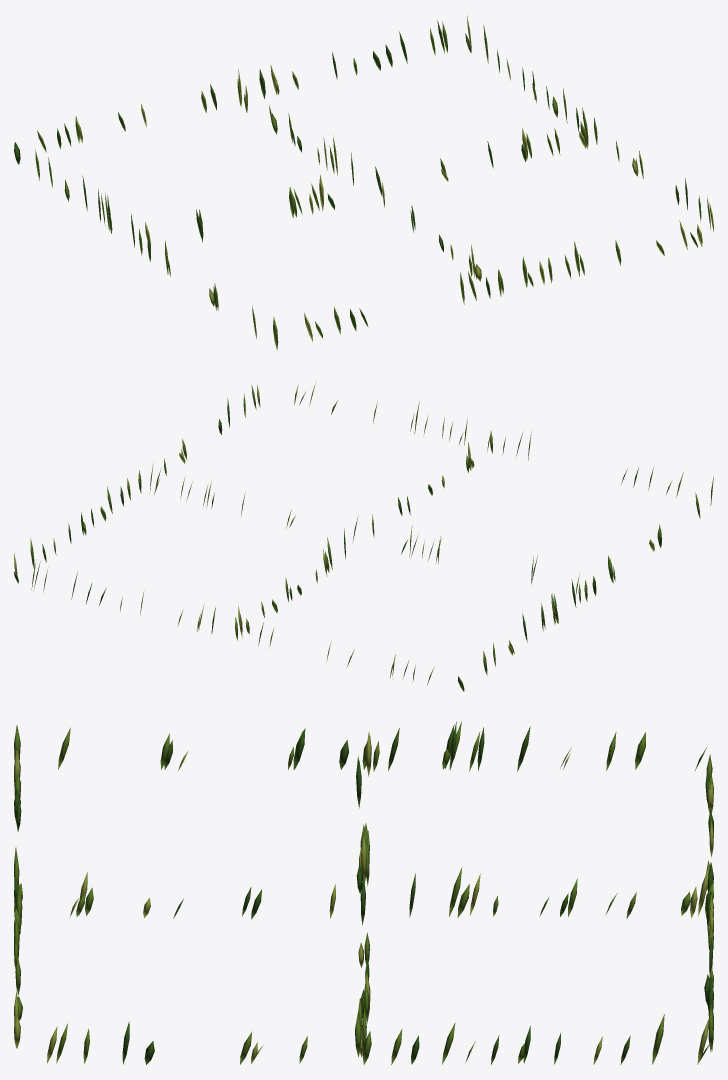
The model's file is MV_Grass_Paving_Seams_1x1m.fbx.
3 renders of one model, top to bottom at view 1: azimuth 30°, elevation 25°; view 2: azimuth 150°, elevation 25°; view 3: azimuth 270°, elevation 25°, orthographic. The views are drawn at different scales.
Parts seen in each view (by area): view 1: LOD0_Mesh, LOD1_Mesh, LOD2_Mesh; view 2: LOD0_Mesh, LOD1_Mesh, LOD2_Mesh; view 3: LOD0_Mesh, LOD1_Mesh, LOD2_Mesh.
Boxes of the visible parts, x1,y1,x2,y2 form: LOD0_Mesh: [14, 15, 702, 349]; LOD1_Mesh: [15, 31, 713, 349]; LOD2_Mesh: [15, 45, 702, 341]; LOD0_Mesh: [14, 382, 713, 691]; LOD1_Mesh: [14, 384, 713, 691]; LOD2_Mesh: [83, 385, 700, 691]; LOD0_Mesh: [14, 721, 713, 1064]; LOD1_Mesh: [14, 725, 713, 1064]; LOD2_Mesh: [14, 727, 713, 1063].
Size of the model in its own units: 1 by 0.082 by 1.
